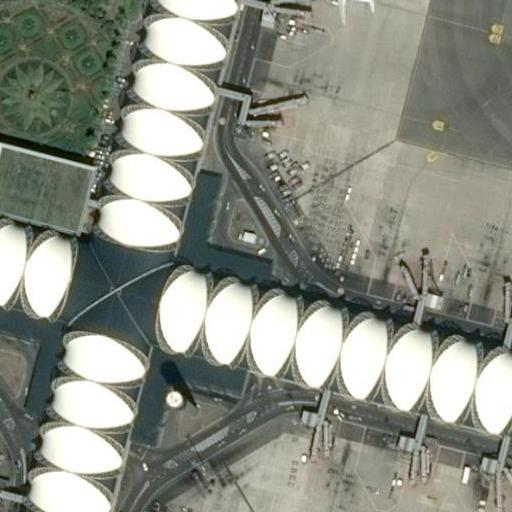Aircraft: (309, 0, 381, 23)
